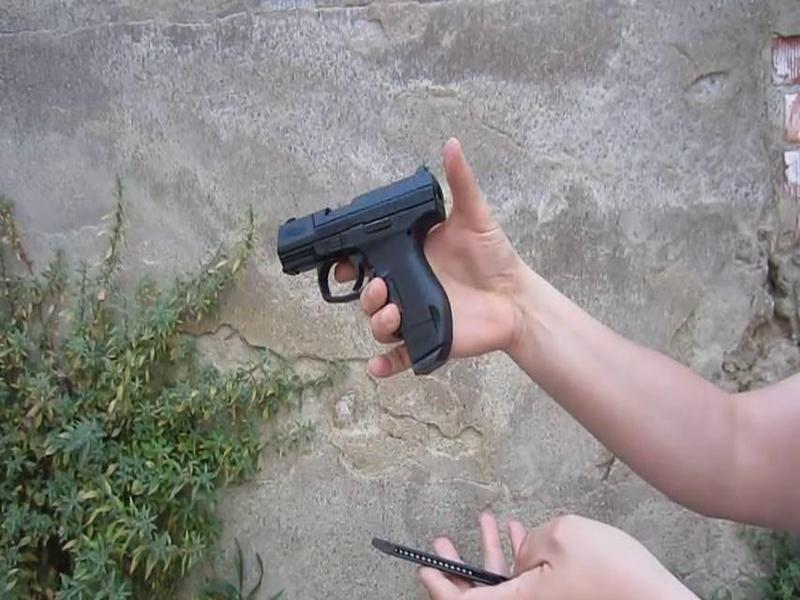Pistola: (261, 154, 482, 405)
